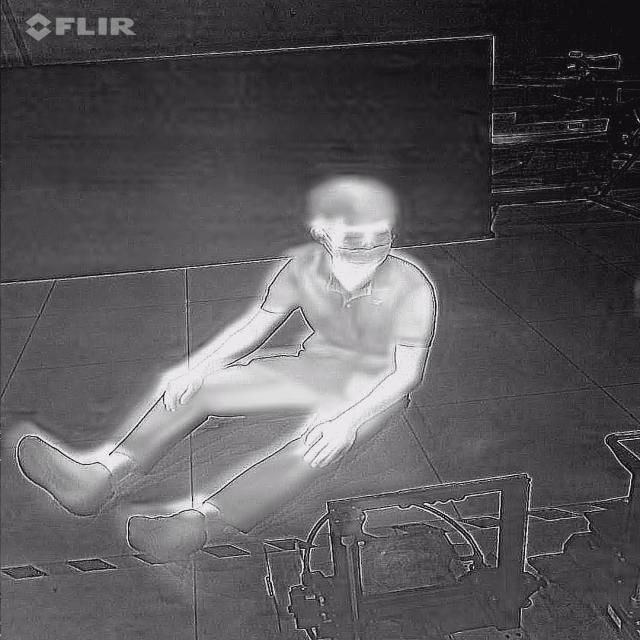Victim: (20, 176, 448, 554)
